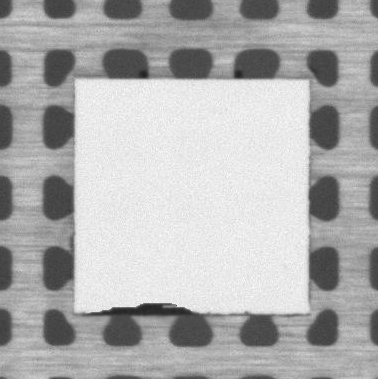DIE_BROKEN: (86, 301, 201, 316)
